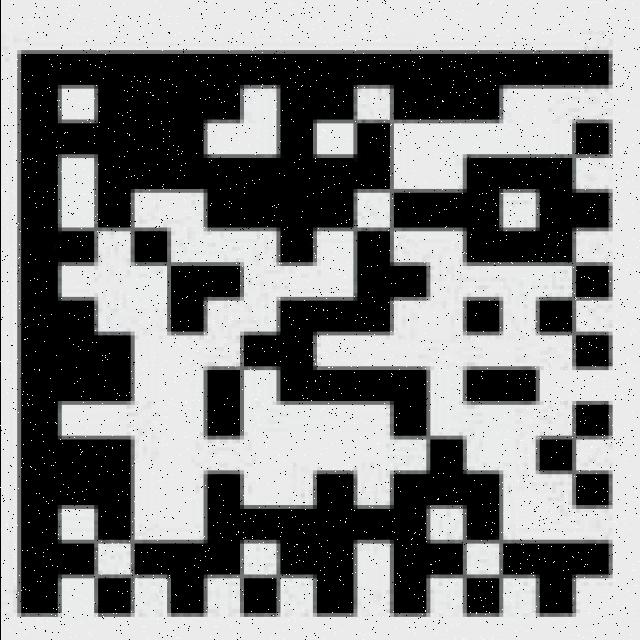datamatrix: (8, 38, 624, 624)
